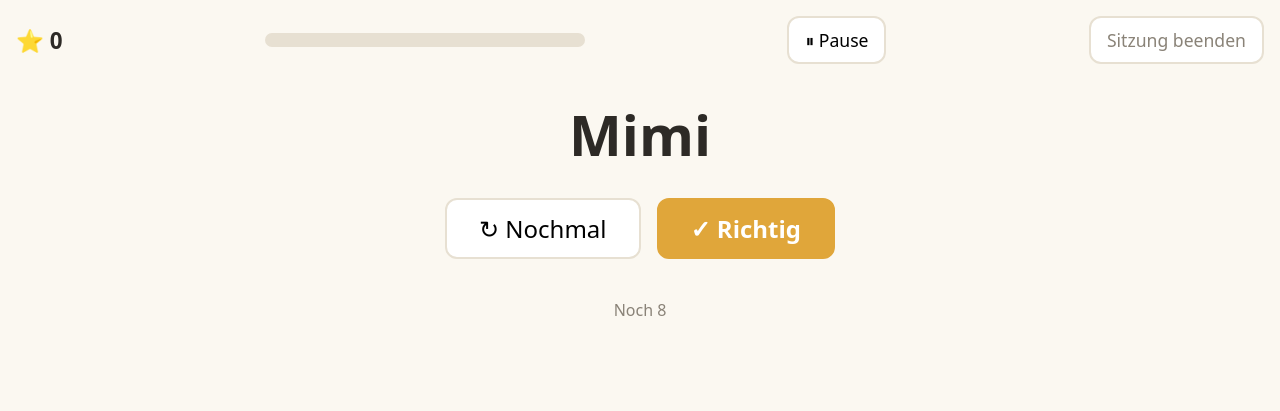
Tagesreise › ▶ Weiter hebt die Pause wirklich auf
Click the button "⏸ Pause" at (837, 40), box top-left (787, 16), bottom-right (886, 64)
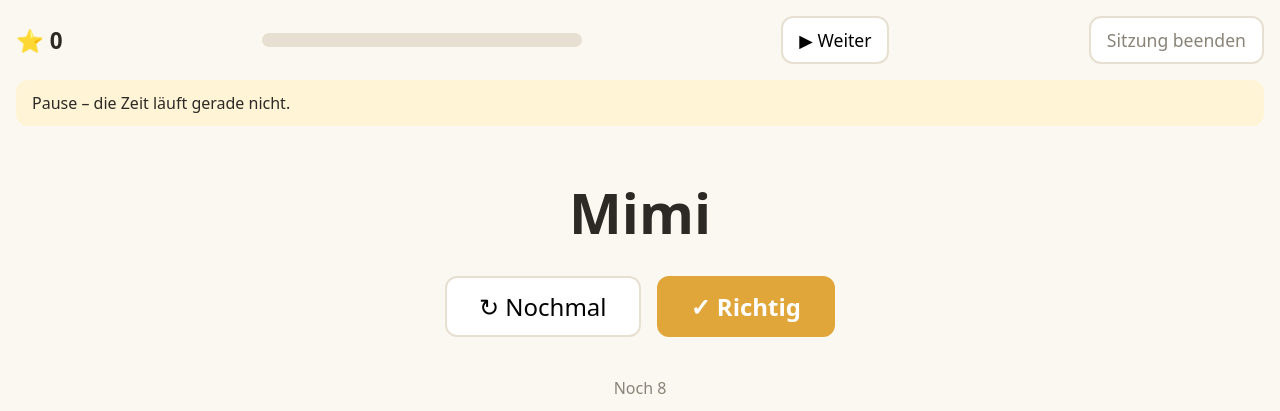
Expected: the text "Pause – die Zeit läuft gerade nicht." is shown, top-left (16, 80), bottom-right (1264, 126)
Click the button "▶ Weiter" at (835, 40), box top-left (781, 16), bottom-right (889, 64)
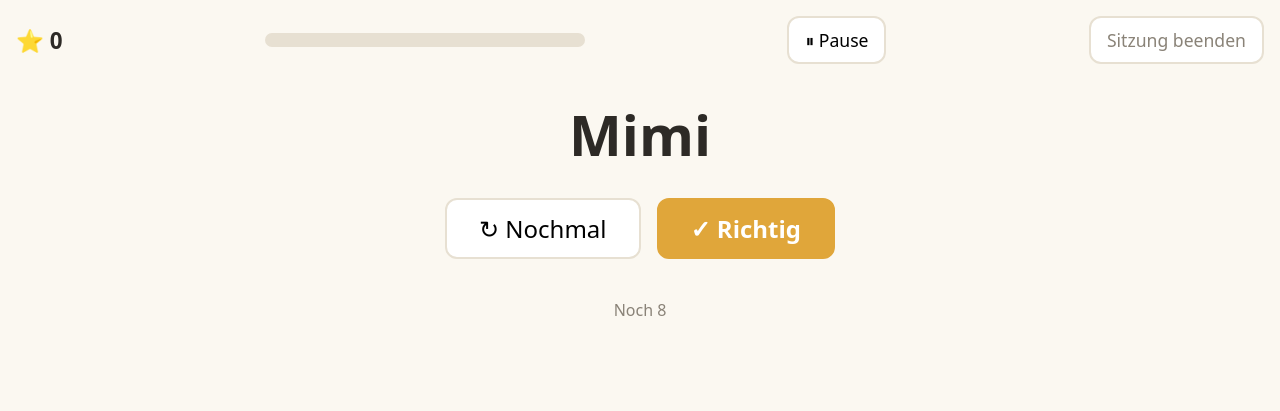
Expected: the button "⏸ Pause" is shown, top-left (787, 16), bottom-right (886, 64)
Expected: the text "die Zeit läuft gerade nicht" is gone
